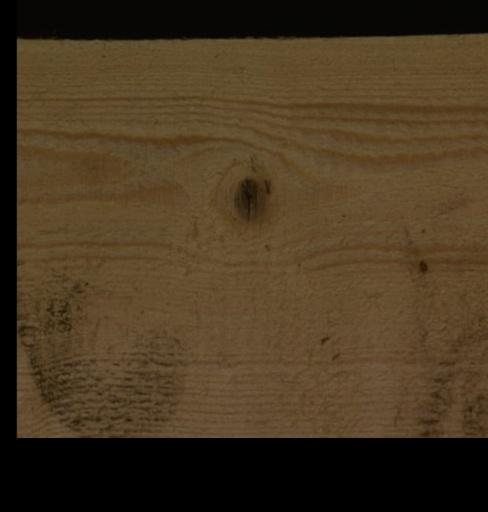small_knot: (412, 251, 432, 277)
sound_knot: (230, 175, 267, 223)
